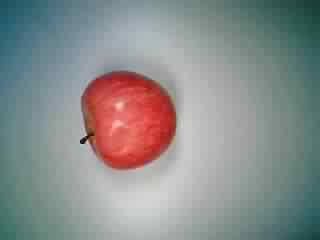apple: (72, 68, 179, 171)
